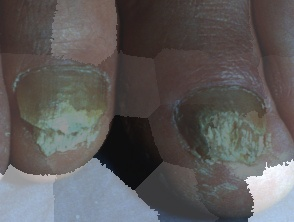Nail_psoriasis: (5, 51, 124, 166), (165, 74, 285, 185)
